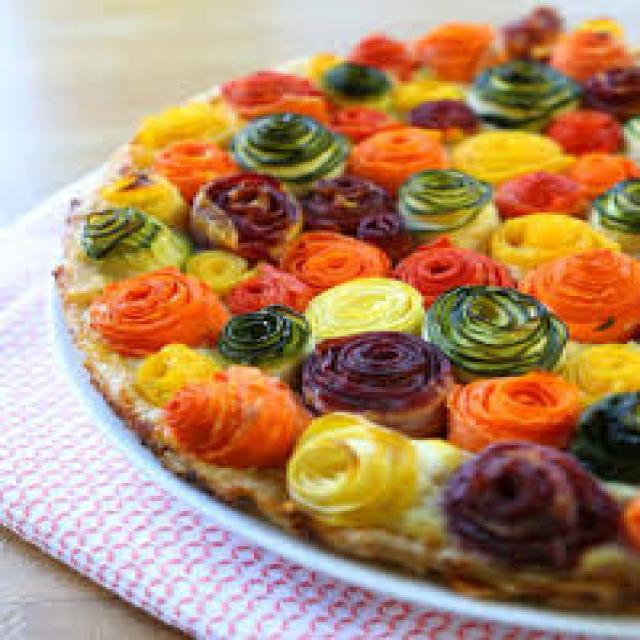biodegradable: (58, 5, 637, 607)
